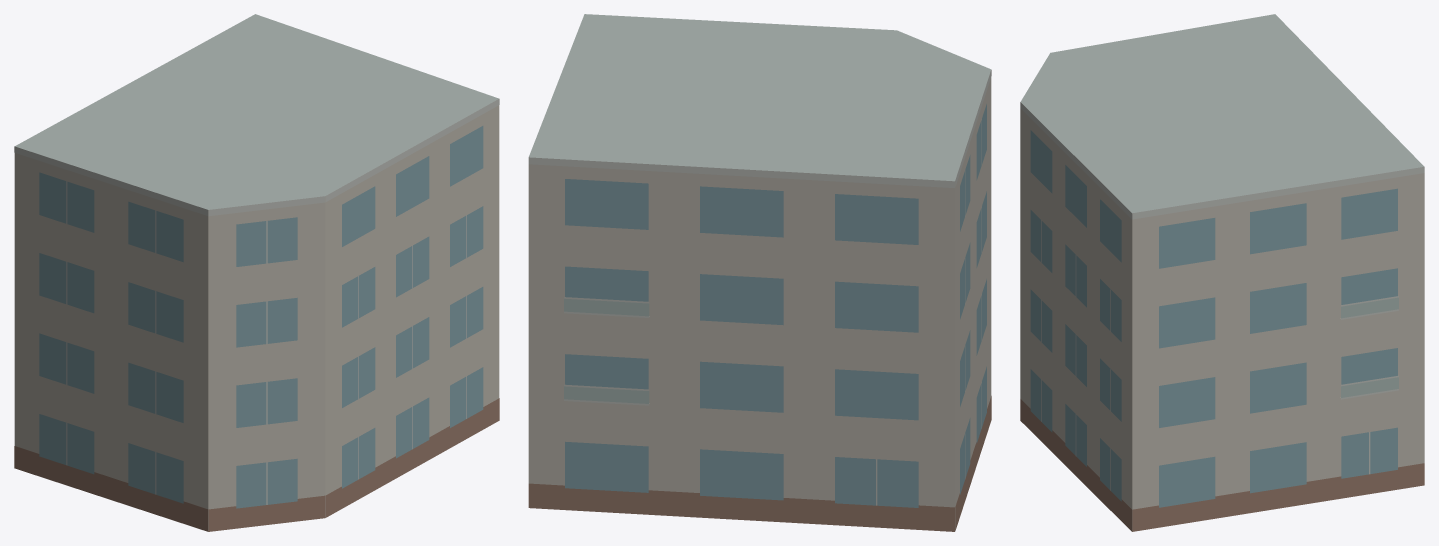
File: survey-upis-32620433.glb
The picture shows the model from 3 angles, left to right: view 1: azimuth 30°, elevation 25°; view 2: azimuth 150°, elevation 25°; view 3: azimuth 270°, elevation 25°; orthographic projection. The views are drawn at different scales.
Parts seen in each view (by area): view 1: survey-upis-32620433.tmp; view 2: survey-upis-32620433.tmp; view 3: survey-upis-32620433.tmp.
Part boxes in pixels (<box>): survey-upis-32620433.tmp: <box>14,14,499,531</box>; survey-upis-32620433.tmp: <box>528,14,991,531</box>; survey-upis-32620433.tmp: <box>1020,14,1424,531</box>.
Bounding box in the file's own units: 16.64 × 12.4 × 14.26.
